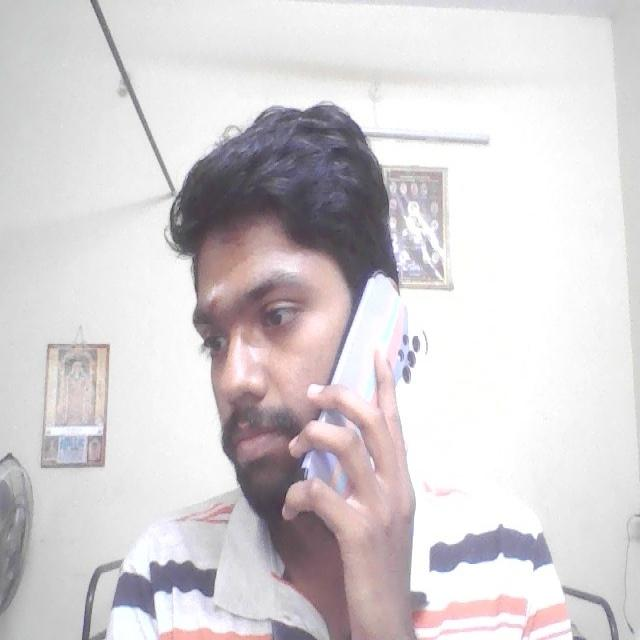Mobile: (326, 267, 431, 438)
